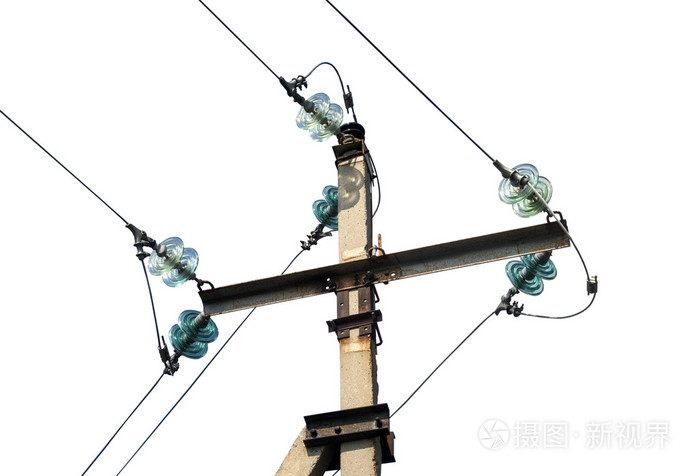insulator: (497, 162, 552, 218), (144, 234, 195, 288), (169, 309, 219, 359), (293, 90, 344, 139), (506, 252, 562, 296), (313, 184, 341, 227)
